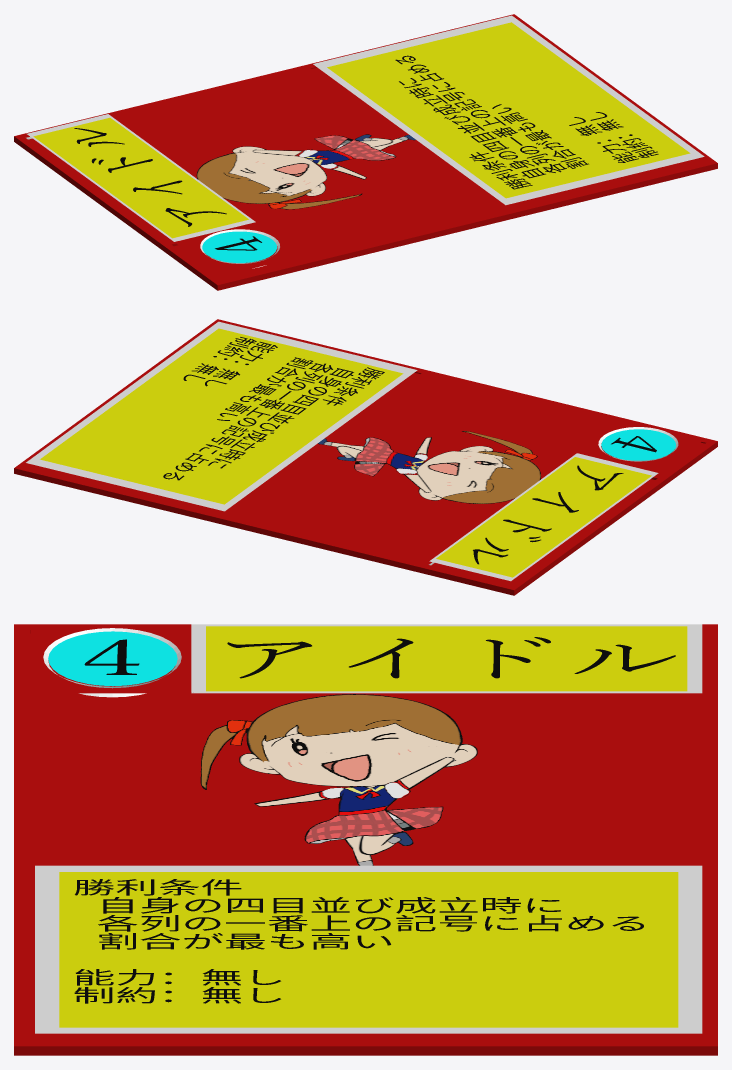
Rendered from アイドル赤.fbx.
3 views of the same model, one above another, from view 1: azimuth 30°, elevation 25°; view 2: azimuth 150°, elevation 25°; view 3: azimuth 270°, elevation 25° (orthographic). The views are drawn at different scales.
Visible parts, largest first — view 1: カード本体.001, 説明欄, 名前欄, 平面.001, 説明文, 円, 平面, 名前; view 2: カード本体.001, 説明欄, 名前欄, 平面.001, 説明文, 円, 平面, 名前; view 3: カード本体.001, 説明欄, 名前欄, 平面.001, 説明文, 平面, 円, 名前, コスト蘭.
Boxes of the visible parts, <box> form: カード本体.001: <box>14,14,717,290</box>; 説明欄: <box>313,15,704,205</box>; 名前欄: <box>27,114,255,241</box>; 平面.001: <box>196,134,415,209</box>; 説明文: <box>395,55,658,189</box>; 円: <box>202,231,276,262</box>; 平面: <box>174,222,302,275</box>; 名前: <box>74,128,226,226</box>; カード本体.001: <box>14,319,717,595</box>; 説明欄: <box>26,321,417,511</box>; 名前欄: <box>429,453,658,581</box>; 平面.001: <box>318,431,541,503</box>; 説明文: <box>163,337,384,480</box>; 円: <box>601,429,675,460</box>; 平面: <box>577,419,704,472</box>; 名前: <box>473,465,623,564</box>; カード本体.001: <box>14,624,717,1055</box>; 説明欄: <box>35,865,702,1033</box>; 名前欄: <box>191,624,702,693</box>; 平面.001: <box>200,694,477,865</box>; 説明文: <box>74,879,643,1003</box>; 平面: <box>30,624,191,693</box>; 円: <box>48,631,177,686</box>; 名前: <box>227,637,675,678</box>; コスト蘭: <box>43,628,181,697</box>.
Bounding box in the file's own units: 281 × 6.07 × 198.
